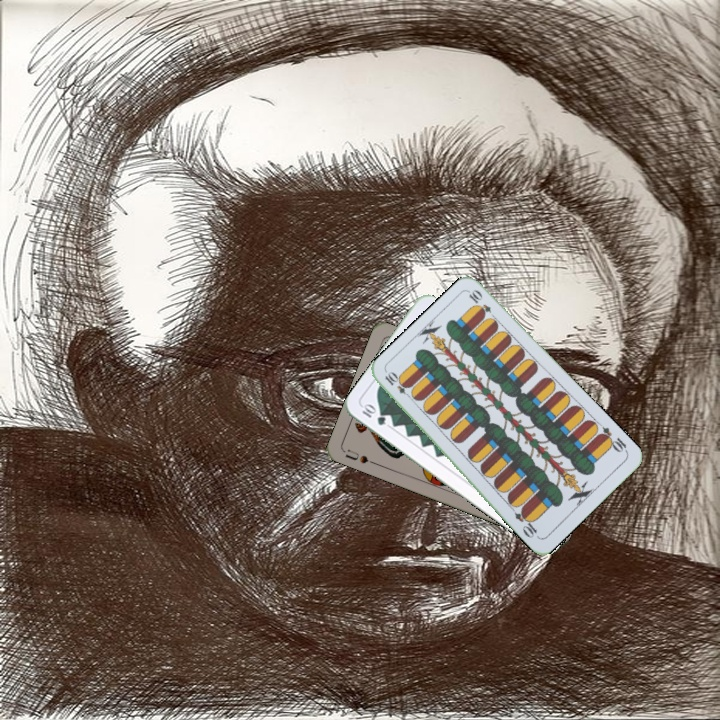E10: (381, 368, 415, 402), (594, 423, 630, 455)
G10: (358, 400, 388, 428)
SU: (340, 445, 379, 467)
